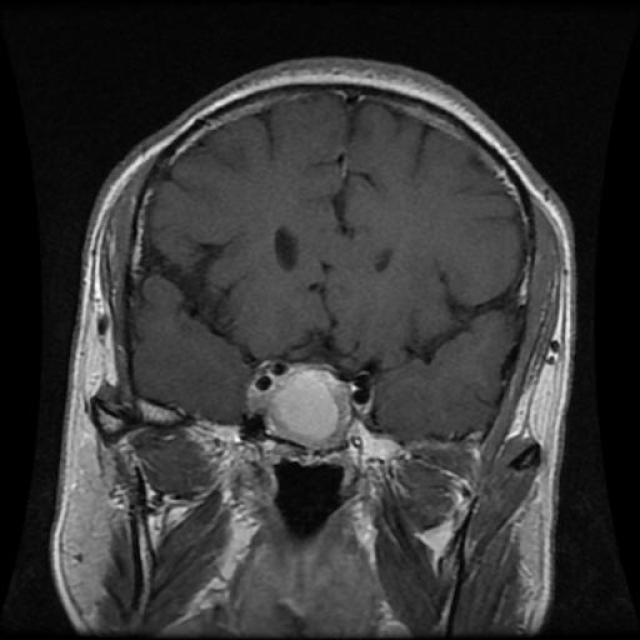pituitary: (240, 353, 372, 455)
